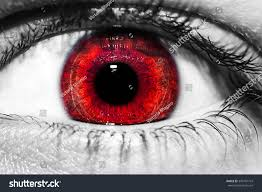e.other: (60, 31, 160, 131)
